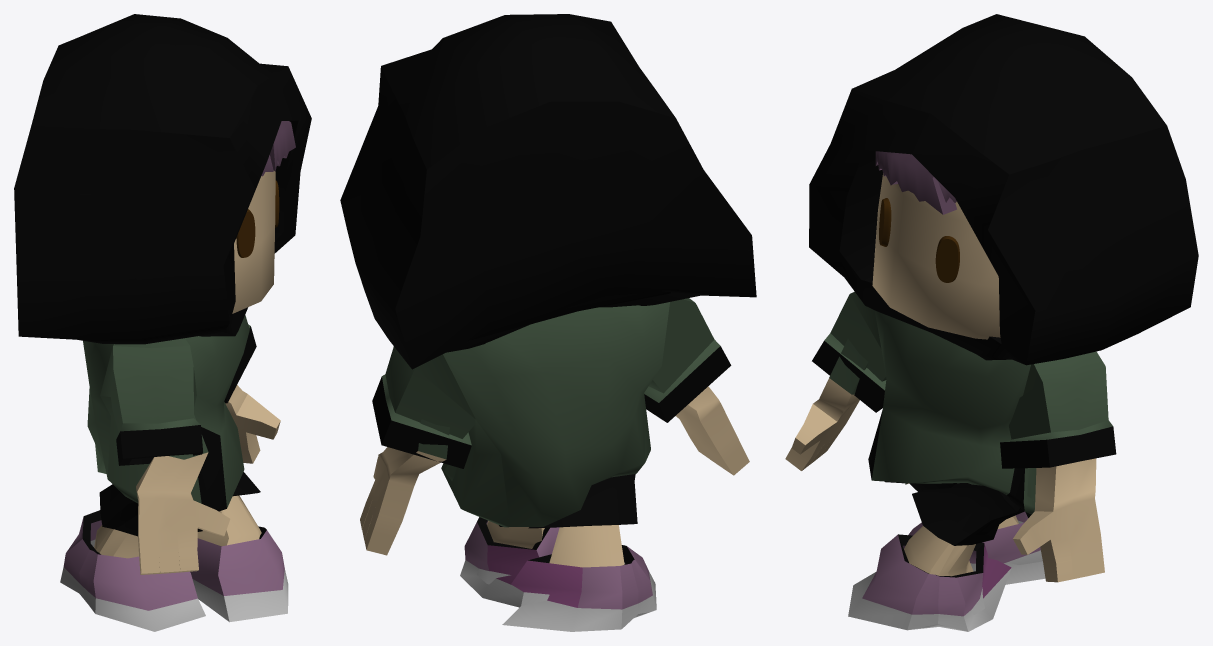
File: Maincharacter.fbx
3 views of the same model, side by side, from view 1: azimuth 30°, elevation 25°; view 2: azimuth 150°, elevation 25°; view 3: azimuth 270°, elevation 25° (orthographic). The views are drawn at different scales.
Visible parts, largest first — view 1: hoodie, sweater, body, shoes1, short, pCube3, bevelPolygon1; view 2: hoodie, sweater, shoes1, body, short; view 3: hoodie, sweater, body, shoes1, short, pCube3, bevelPolygon2.
Part boxes in pixels (<box>): hoodie: <box>14,14,311,344</box>; sweater: <box>83,315,256,511</box>; body: <box>94,171,280,574</box>; shoes1: <box>60,510,288,631</box>; short: <box>99,472,260,536</box>; pCube3: <box>270,121,295,171</box>; bevelPolygon1: <box>236,209,255,257</box>; hoodie: <box>340,14,756,369</box>; sweater: <box>372,298,731,527</box>; shoes1: <box>460,517,656,631</box>; body: <box>360,386,749,567</box>; short: <box>499,474,637,528</box>; hoodie: <box>809,14,1198,365</box>; sweater: <box>812,291,1116,514</box>; body: <box>785,173,1104,582</box>; shoes1: <box>848,511,1045,631</box>; short: <box>885,481,1024,545</box>; pCube3: <box>886,152,956,214</box>; bevelPolygon2: <box>935,236,959,282</box>.
Size of the model in its own units: 4.1 by 6.43 by 4.31.
